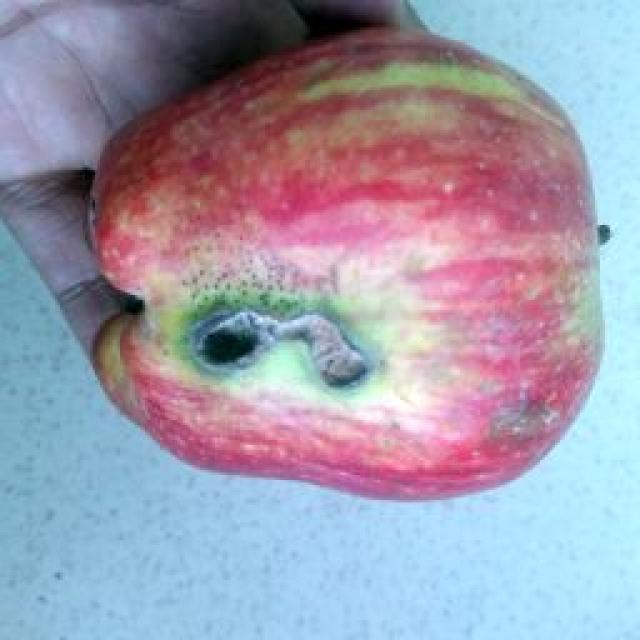Bad_Apple: (91, 29, 598, 498)
